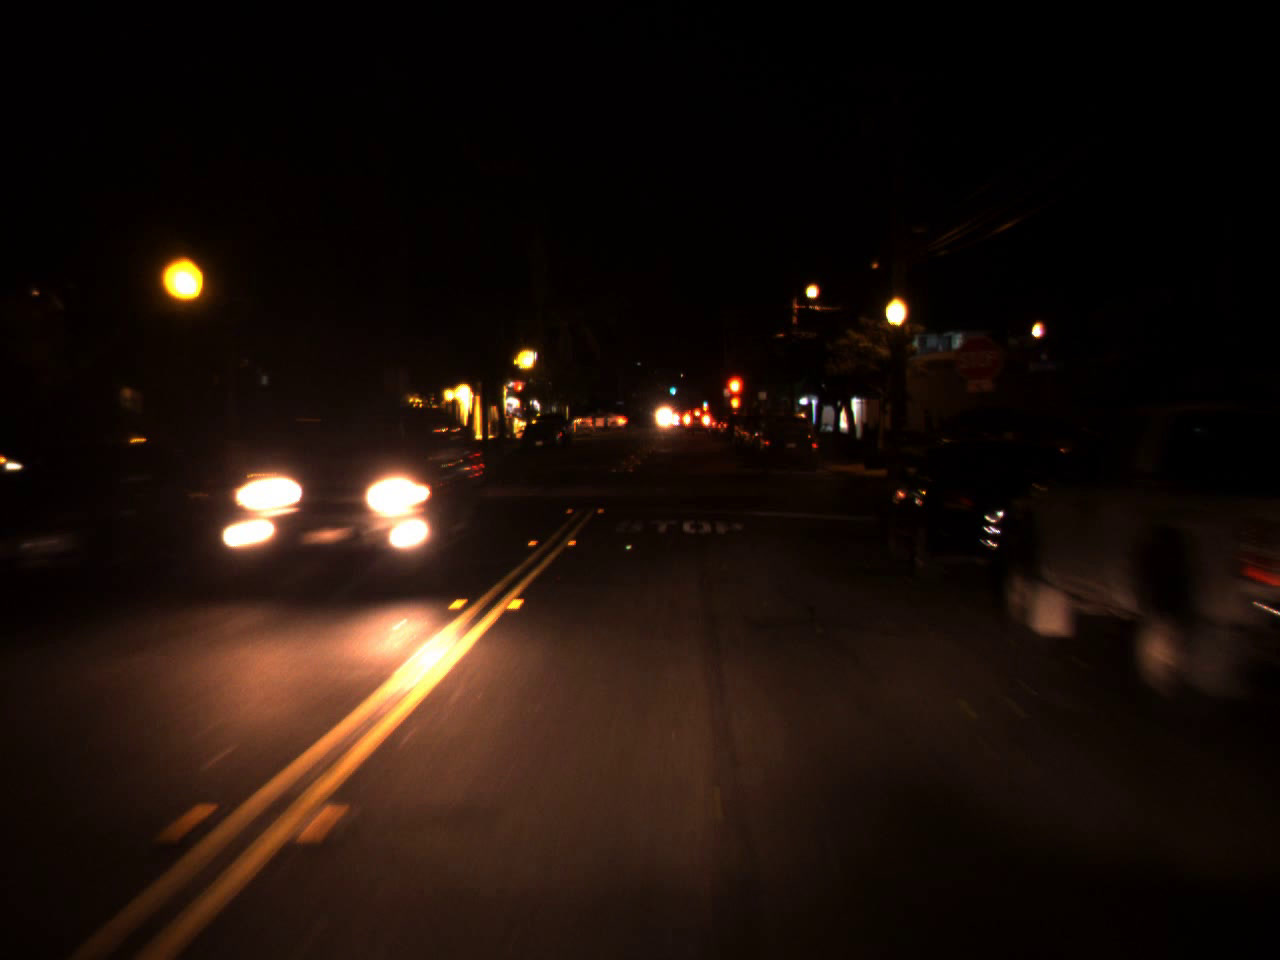go: (667, 380, 676, 395), (700, 395, 707, 407)
stop: (724, 374, 745, 409), (511, 379, 526, 406)
